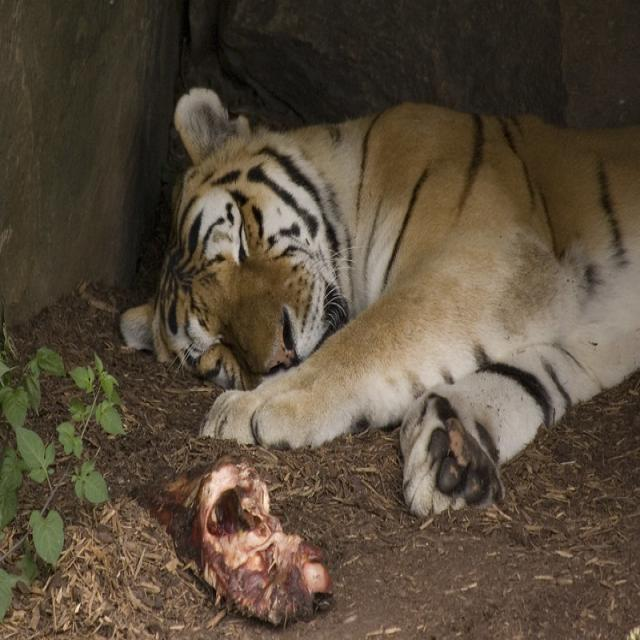Tiger: (138, 89, 639, 515)
